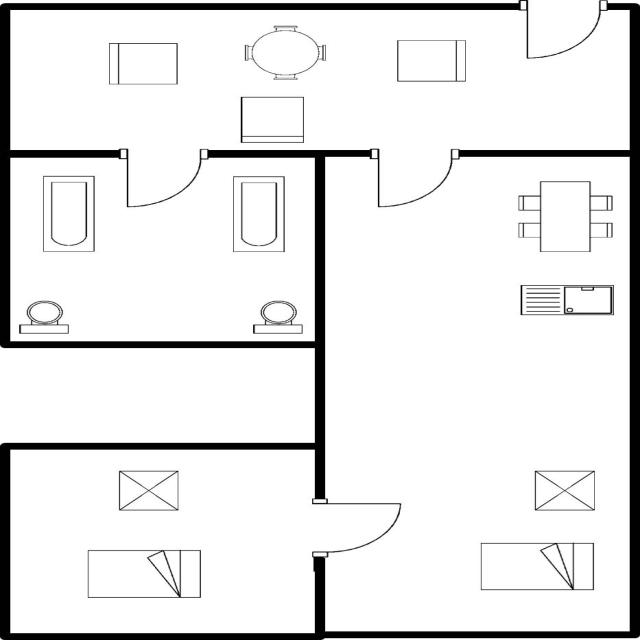bed: (80, 545, 206, 603), (473, 538, 601, 595)
coffee_table: (526, 464, 603, 515), (113, 467, 185, 514)
dining_table: (508, 178, 618, 258)
large_sink: (244, 298, 306, 338), (13, 299, 74, 338)
round_table: (237, 22, 334, 84)
sink: (512, 280, 618, 320)
small_sofa: (231, 90, 310, 147), (389, 35, 473, 87), (102, 38, 183, 89)
tub: (222, 170, 294, 258), (36, 172, 100, 256)
